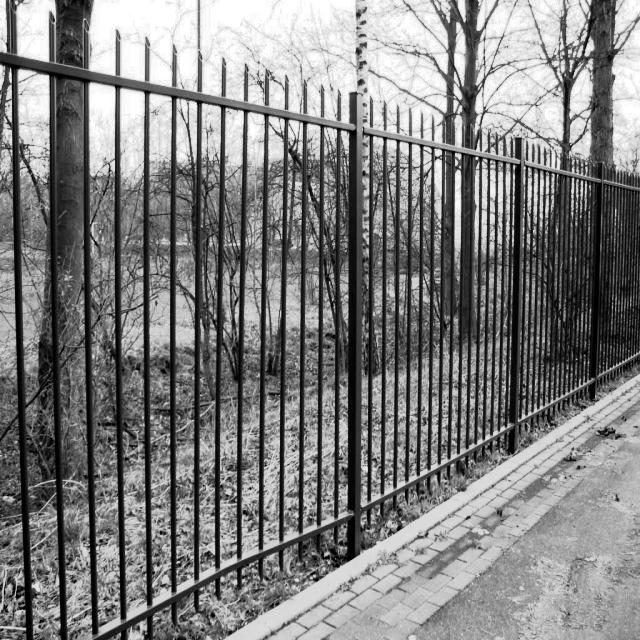fences: (0, 64, 369, 620), (378, 102, 627, 506)
